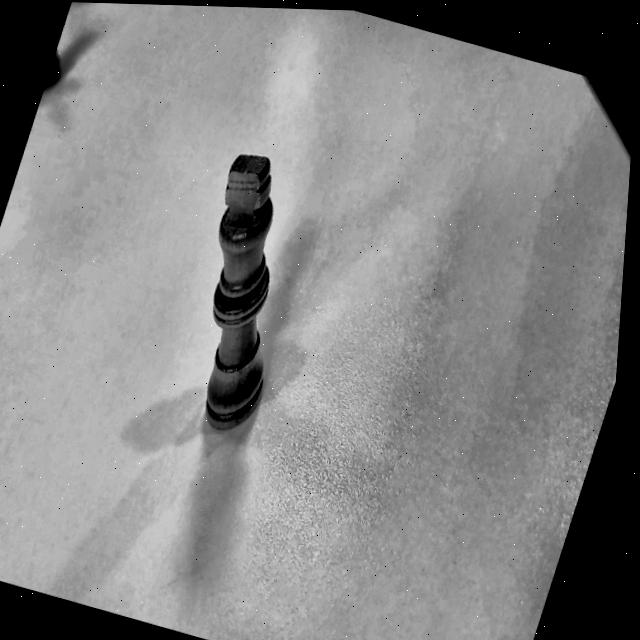black-king: (131, 134, 343, 467)
